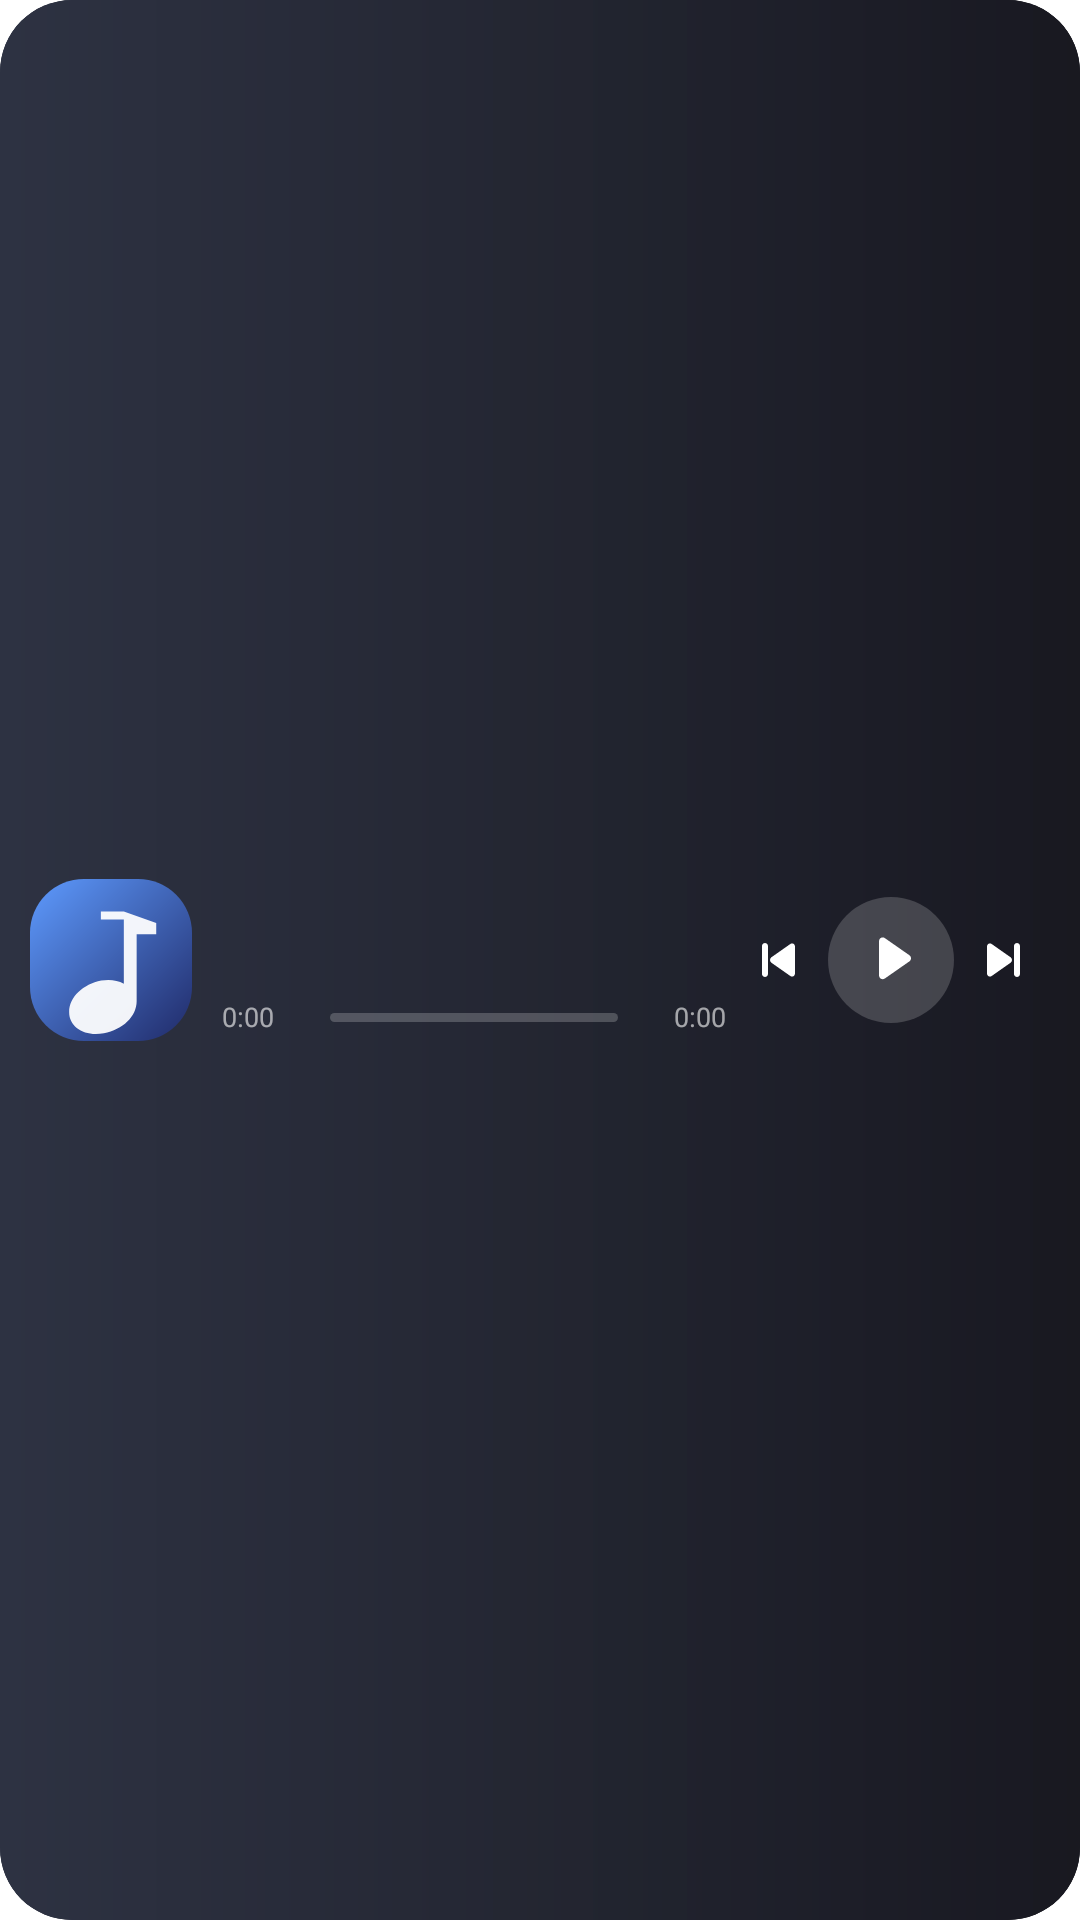

Screen size 1080×1920. Icon name, then its center in pixels as [x,y]:
上一首: [778,960]
下一首: [1003,960]
播放: [891,960]
